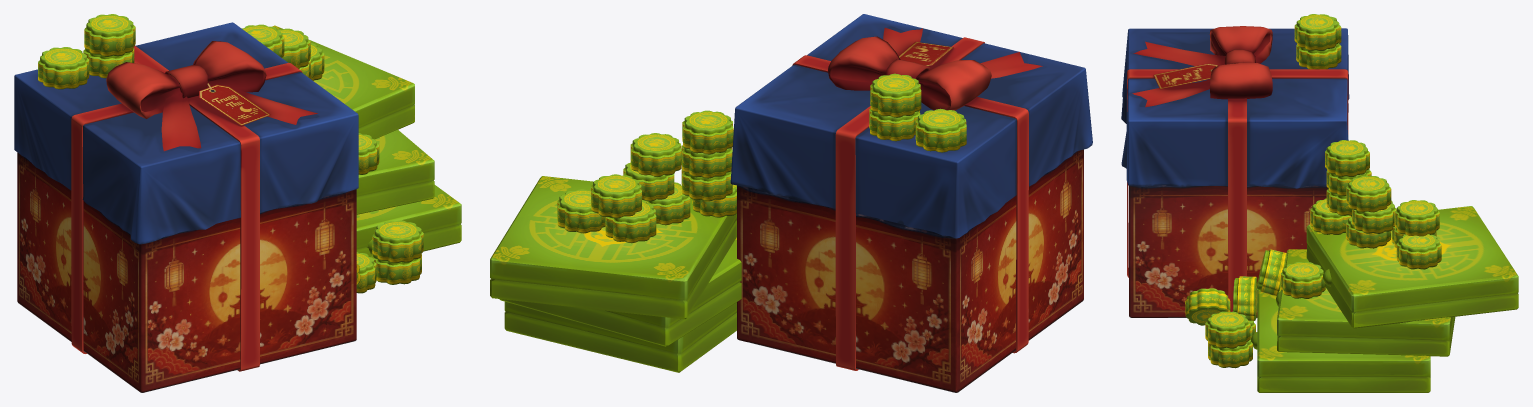
The model's file is banh_H3.fbx.
3 views of the same model, side by side, from view 1: azimuth 30°, elevation 25°; view 2: azimuth 150°, elevation 25°; view 3: azimuth 270°, elevation 25° (orthographic). The views are drawn at different scales.
Visible parts, largest first — view 1: H3; view 2: H3; view 3: H3.
Boxes of the visible parts, x1=… form: H3: x1=14, y1=14, x2=461, y2=392; H3: x1=490, y1=14, x2=1092, y2=392; H3: x1=1121, y1=14, x2=1518, y2=392.
Size of the model in its own units: 1231 by 789 by 1189.
